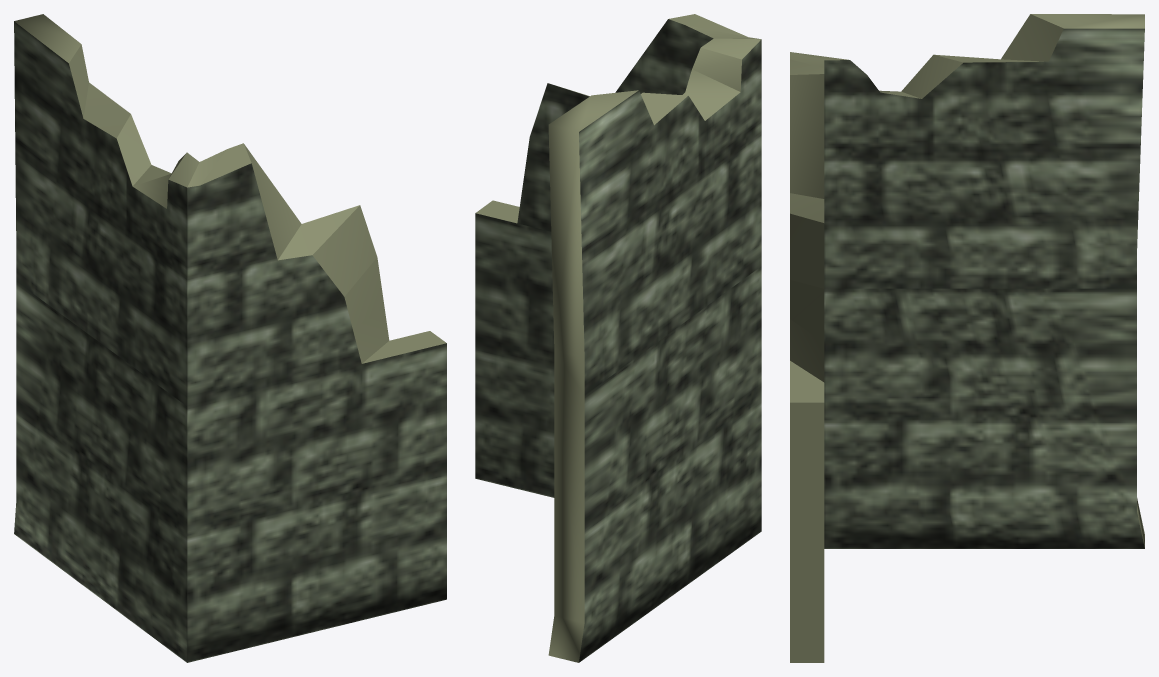
File: ruins_corner_2.glb
3 renders of one model, left to right at view 1: azimuth 30°, elevation 25°; view 2: azimuth 150°, elevation 25°; view 3: azimuth 270°, elevation 25°, orthographic. The views are drawn at different scales.
Parts seen in each view (by area): view 1: ruin_73; view 2: ruin_73; view 3: ruin_73.
Part boxes in pixels (x1=…): ruin_73: x1=14, y1=14, x2=446, y2=662; ruin_73: x1=475, y1=14, x2=761, y2=662; ruin_73: x1=790, y1=14, x2=1144, y2=662.
Bounding box in the file's own units: 1.68 × 3.17 × 1.96.
2 materials, 1 textured.
